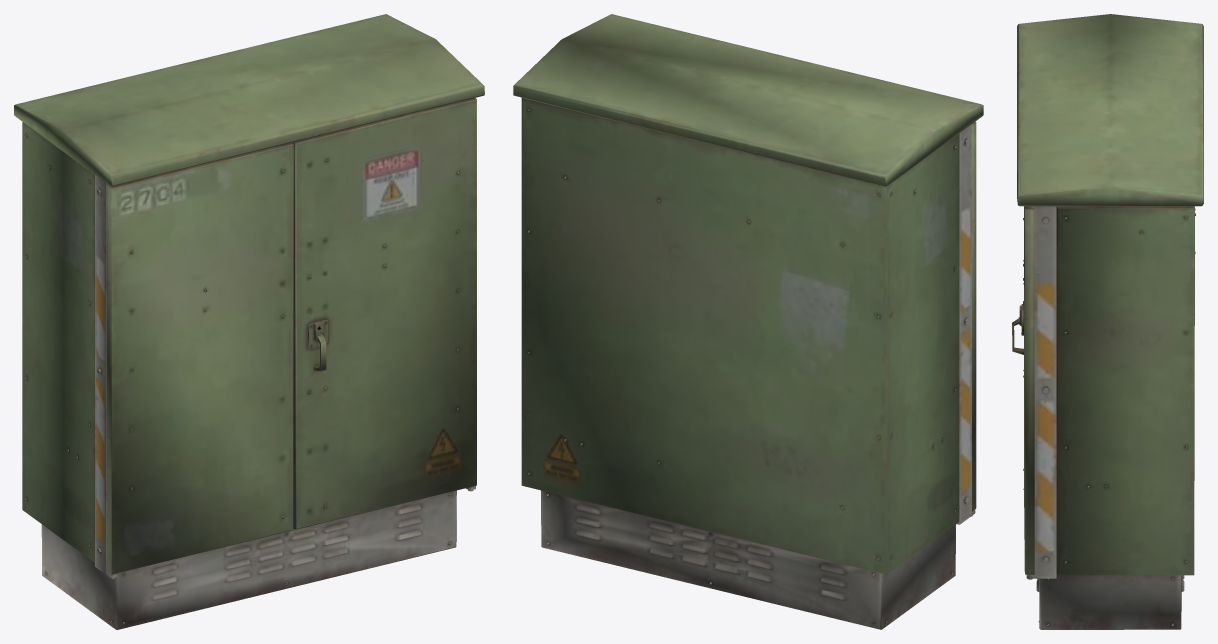
File: utility_box_02.glb
3 renders of one model, left to right at view 1: azimuth 30°, elevation 25°; view 2: azimuth 150°, elevation 25°; view 3: azimuth 270°, elevation 25°, orthographic. The views are drawn at different scales.
Visible parts, largest first — view 1: utility_box_02; view 2: utility_box_02; view 3: utility_box_02.
Boxes of the visible parts, left/top/right/bottom form: utility_box_02: left=14, top=14, right=484, bottom=629; utility_box_02: left=513, top=14, right=983, bottom=629; utility_box_02: left=1012, top=14, right=1203, bottom=629.
Size of the model in its own units: 0.9165 by 1.12 by 0.4312.
1 material, 1 textured.
